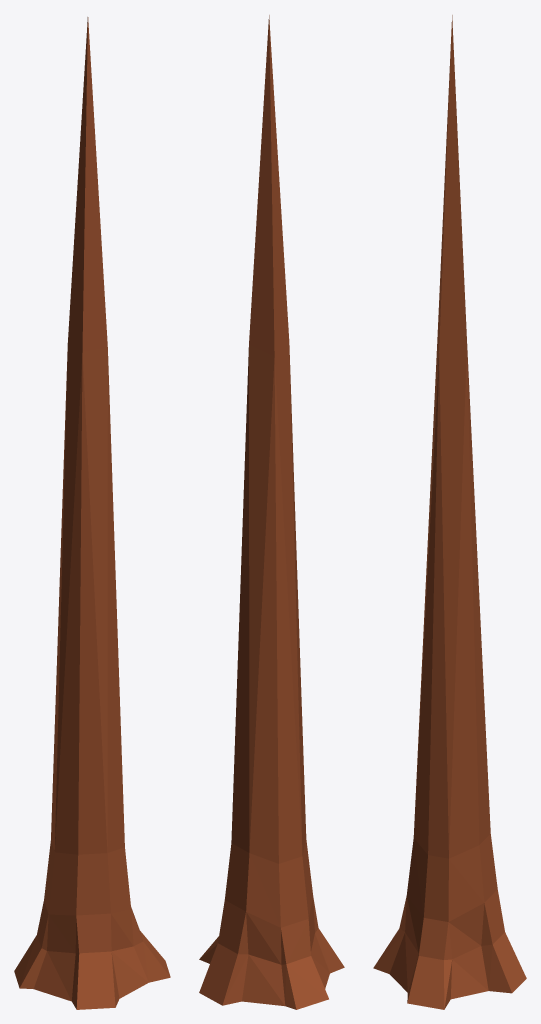
The model's file is Vegetation_Tree_Trunk_Spikey_02.FBX.
The picture shows the model from 3 angles, left to right: view 1: azimuth 30°, elevation 25°; view 2: azimuth 150°, elevation 25°; view 3: azimuth 270°, elevation 25°; orthographic projection.
Visible parts, largest first — view 1: Vegetation_Tree_Trunk_Spikey_02; view 2: Vegetation_Tree_Trunk_Spikey_02; view 3: Vegetation_Tree_Trunk_Spikey_02.
Boxes of the visible parts, left/top/right/bottom form: Vegetation_Tree_Trunk_Spikey_02: left=14, top=17, right=170, bottom=1009; Vegetation_Tree_Trunk_Spikey_02: left=199, top=15, right=344, bottom=1009; Vegetation_Tree_Trunk_Spikey_02: left=373, top=15, right=526, bottom=1009.
Size of the model in its own units: 737 by 4914 by 713.
